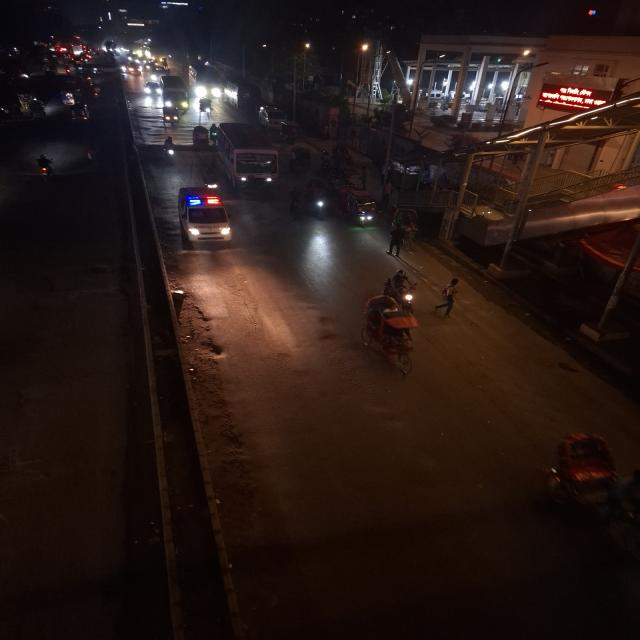bus: (210, 119, 282, 193), (158, 74, 190, 116), (227, 81, 258, 112), (192, 68, 222, 100)
car: (176, 188, 234, 252), (143, 79, 161, 97)
cng: (340, 186, 382, 230), (68, 102, 92, 127), (160, 104, 181, 127)
motorcycle: (387, 268, 421, 310), (32, 152, 57, 182), (202, 167, 222, 195), (160, 134, 178, 162)
pedestrian: (432, 275, 464, 321), (385, 224, 414, 259)
rickshaw: (546, 427, 640, 563), (358, 292, 422, 379), (338, 184, 382, 230), (388, 204, 426, 236), (301, 177, 330, 218), (288, 145, 313, 172), (190, 123, 210, 149)
